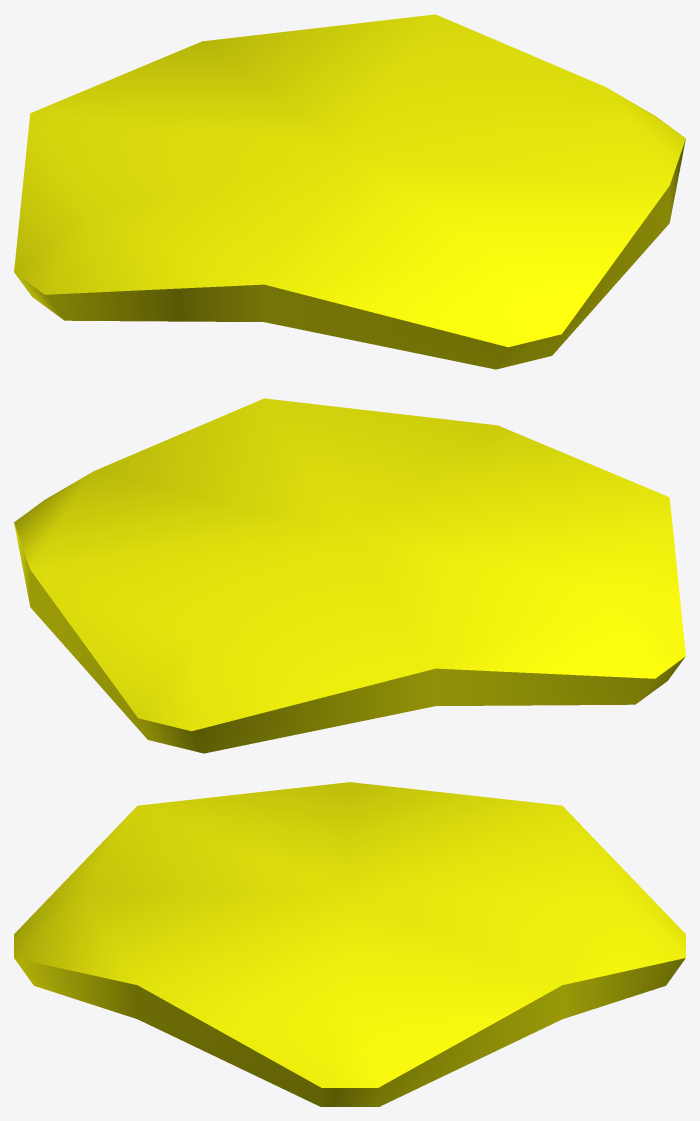
Rendered from kaykit-food-ingredient-cheese-slice.glb.
3 renders of one model, top to bottom at view 1: azimuth 30°, elevation 25°; view 2: azimuth 150°, elevation 25°; view 3: azimuth 270°, elevation 25°, orthographic. The views are drawn at different scales.
Parts seen in each view (by area): view 1: food_ingredient_cheese_slice; view 2: food_ingredient_cheese_slice; view 3: food_ingredient_cheese_slice.
Part boxes in pixels (x1,y1,x2,y2): food_ingredient_cheese_slice: (14,14,685,369); food_ingredient_cheese_slice: (14,398,685,753); food_ingredient_cheese_slice: (14,782,685,1106).
Bounding box in the file's own units: 0.8243 × 0.1055 × 0.8243.
